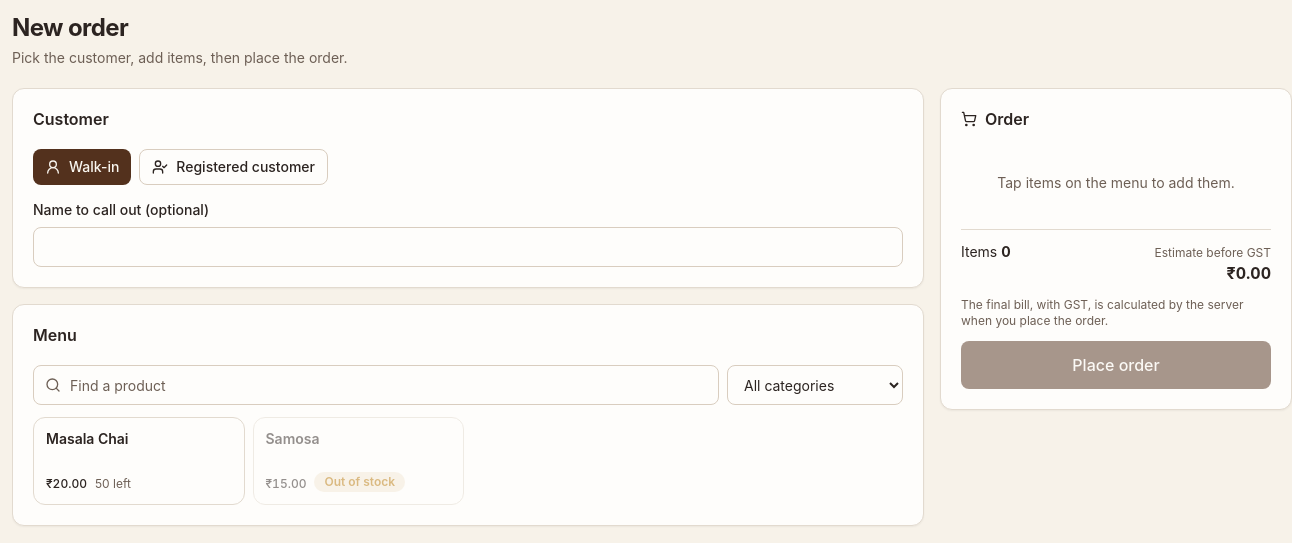
Test: POS › changes and removes lines
Step 1. Click the button "Masala Chai ₹20.00 50 left" → x=139, y=461, box [33, 417, 244, 505]
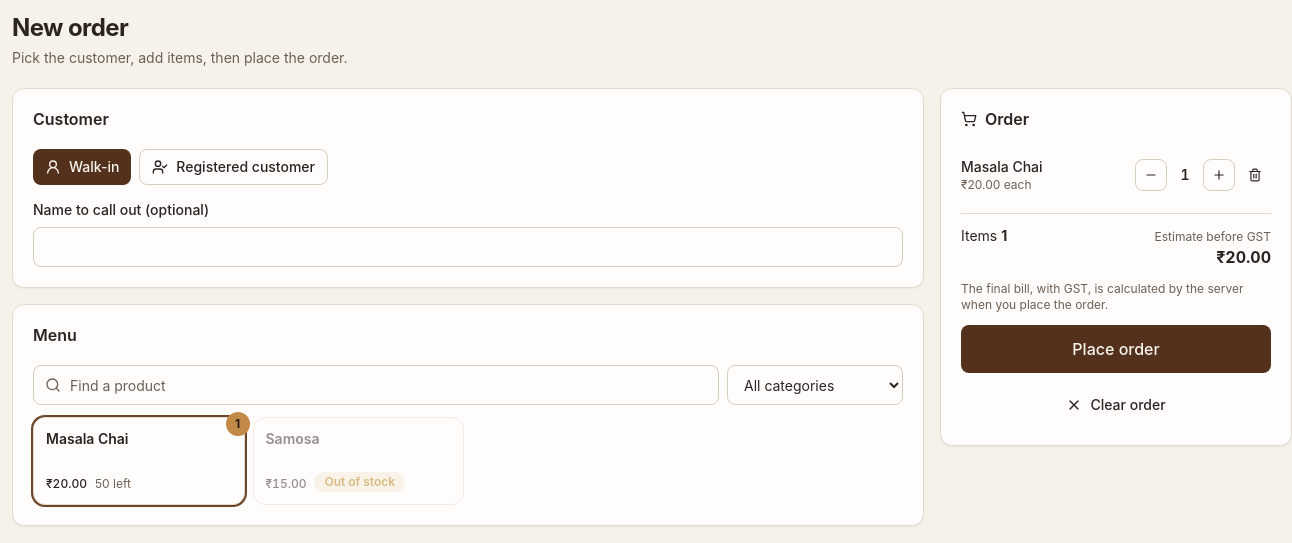
Step 2. Click the button "Masala Chai ₹20.00 50 left 1" → x=139, y=461, box [33, 417, 244, 505]
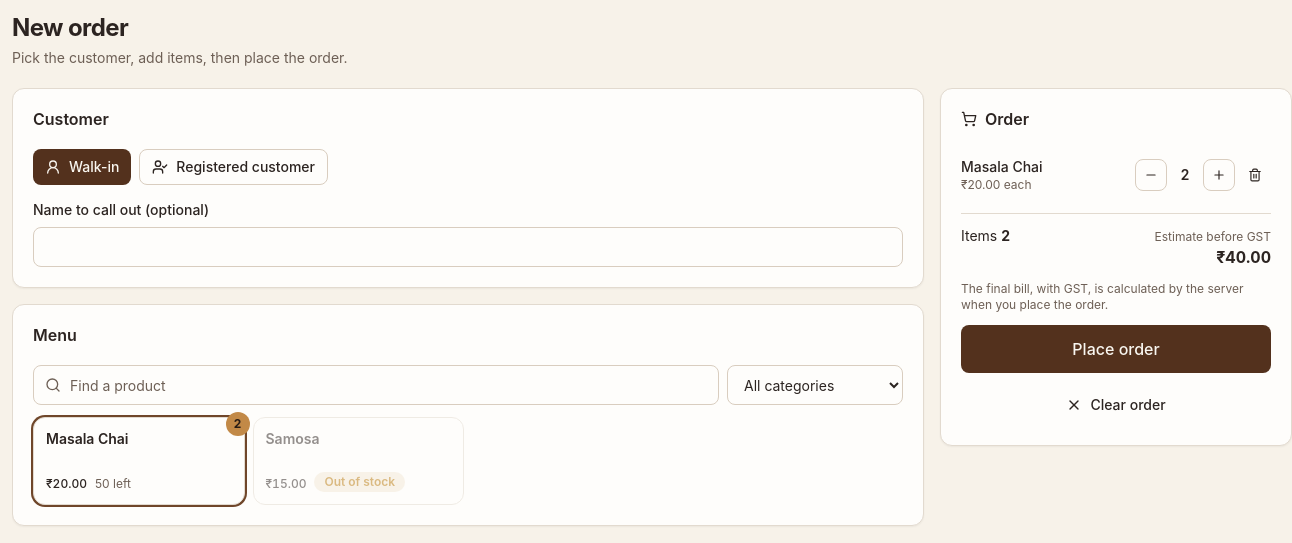
Step 3. Click the button named "Decrease Masala Chai" → x=1151, y=175, box [1135, 159, 1167, 191]
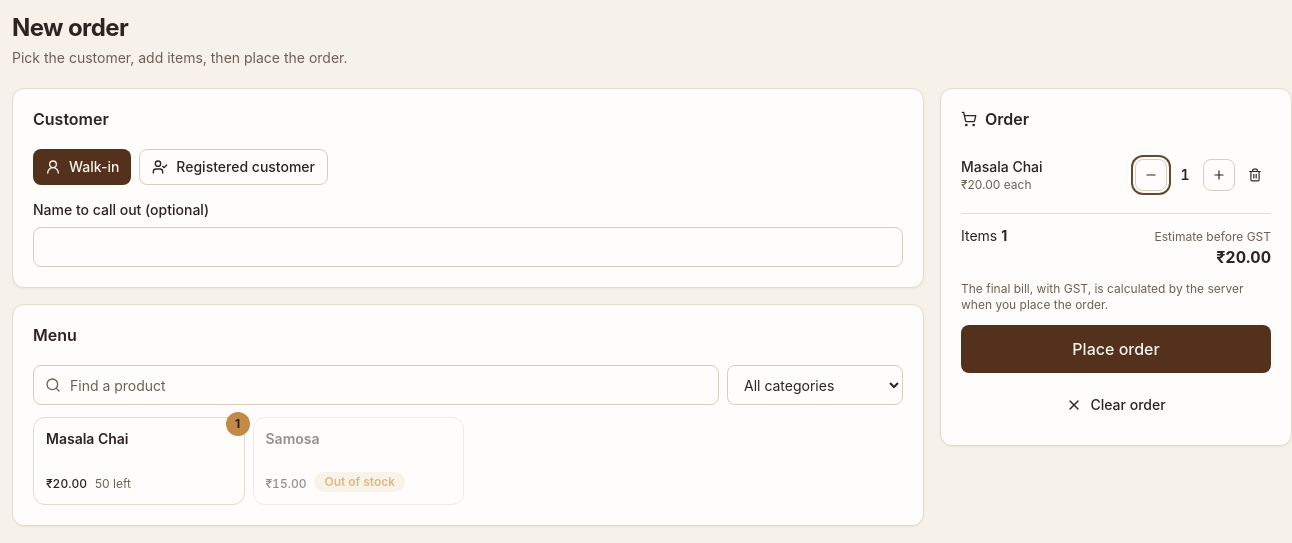
Now the text named "Masala Chai quantity" reads "1", box [1180, 166, 1190, 183]
Step 4. Click the button named "Remove Masala Chai" → x=1255, y=175, box [1239, 159, 1271, 191]
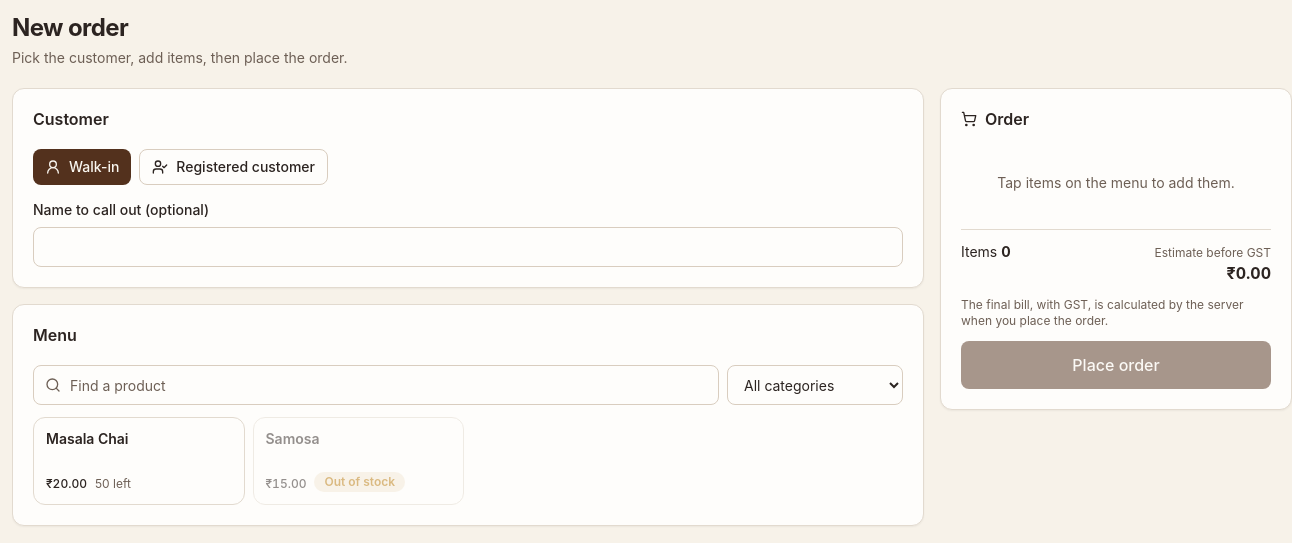
Now the text "Tap items on the menu to add them." is shown, box [997, 174, 1235, 191]
Now the button "Place order" is disabled, box [961, 341, 1271, 389]
